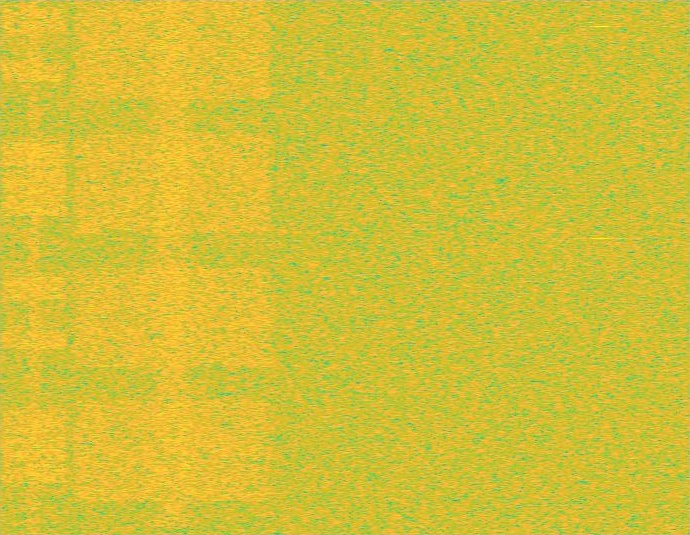5G: (69, 0, 276, 534)
DSSS: (149, 0, 196, 534), (27, 0, 42, 534)
LTE: (0, 0, 69, 534)
Radar: (594, 0, 608, 534)
